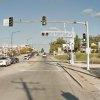Traffic light: (37, 10, 59, 29)
